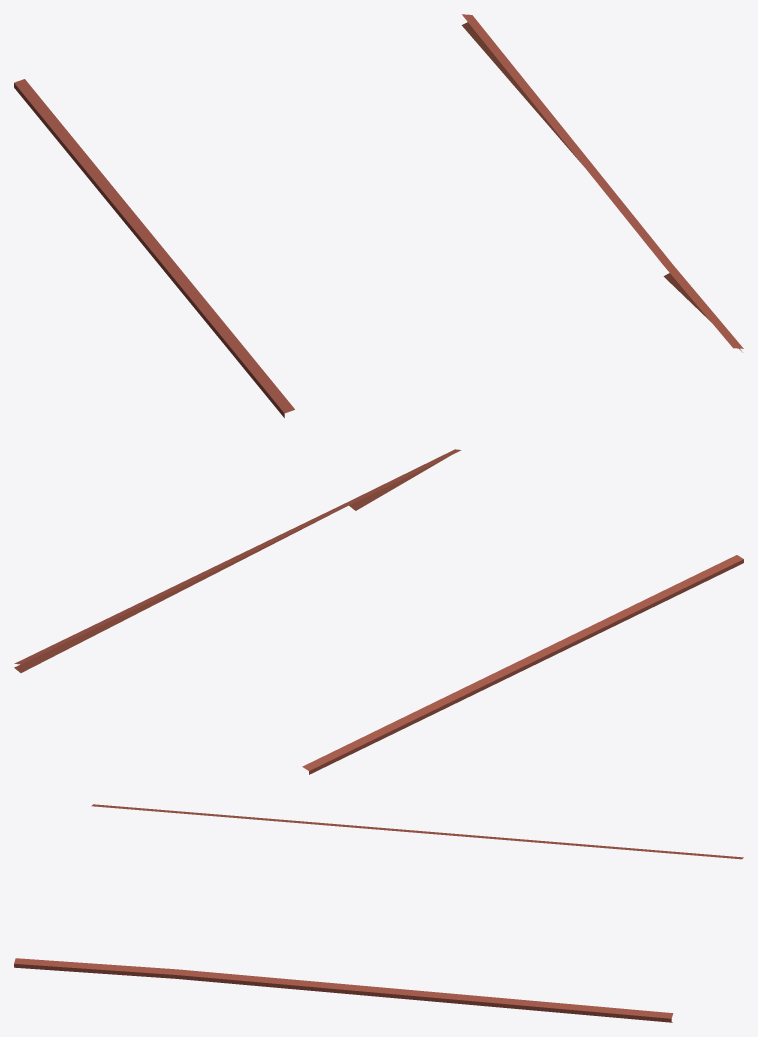
3 views of the same model, one above another, from view 1: azimuth 30°, elevation 25°; view 2: azimuth 150°, elevation 25°; view 3: azimuth 270°, elevation 25° (orthographic). The views are drawn at different scales.
Visible parts, largest first — view 1: detail; view 2: detail; view 3: detail.
Boxes of the visible parts, x1=… form: detail: x1=14, y1=14, x2=743, y2=417; detail: x1=14, y1=449, x2=743, y2=774; detail: x1=14, y1=804, x2=743, y2=1022.
Size of the model in its own units: 17.73 by 0.4037 by 25.49.
